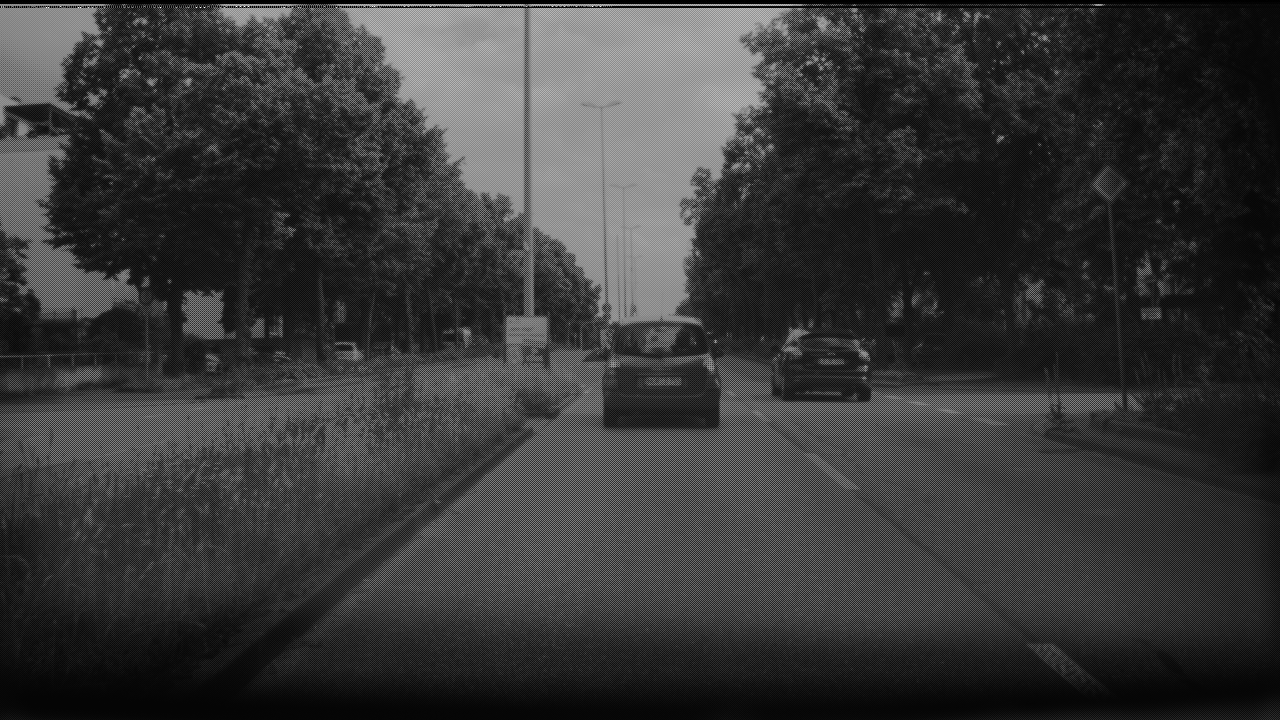pole: (521, 1, 534, 307), (597, 102, 608, 307)
